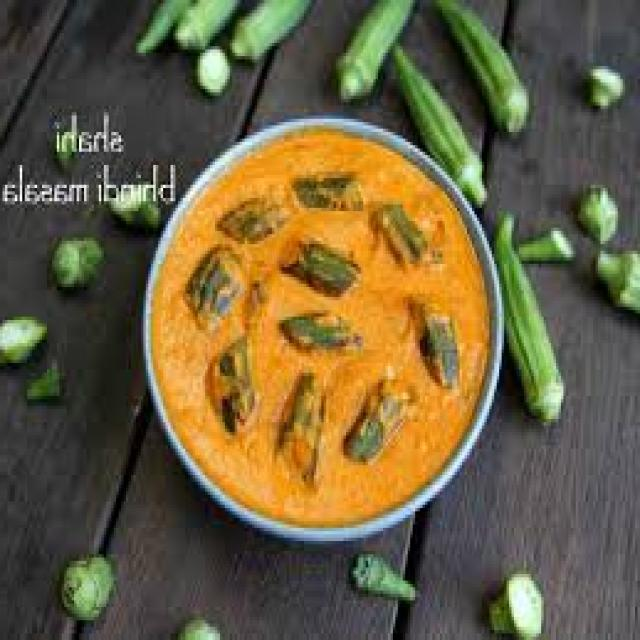Bhindi Masala: (152, 118, 493, 533)
